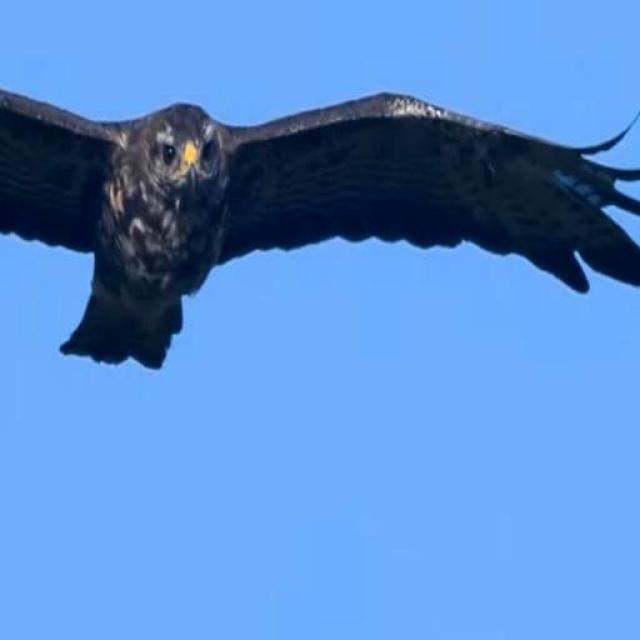airplane: (0, 54, 640, 375)
